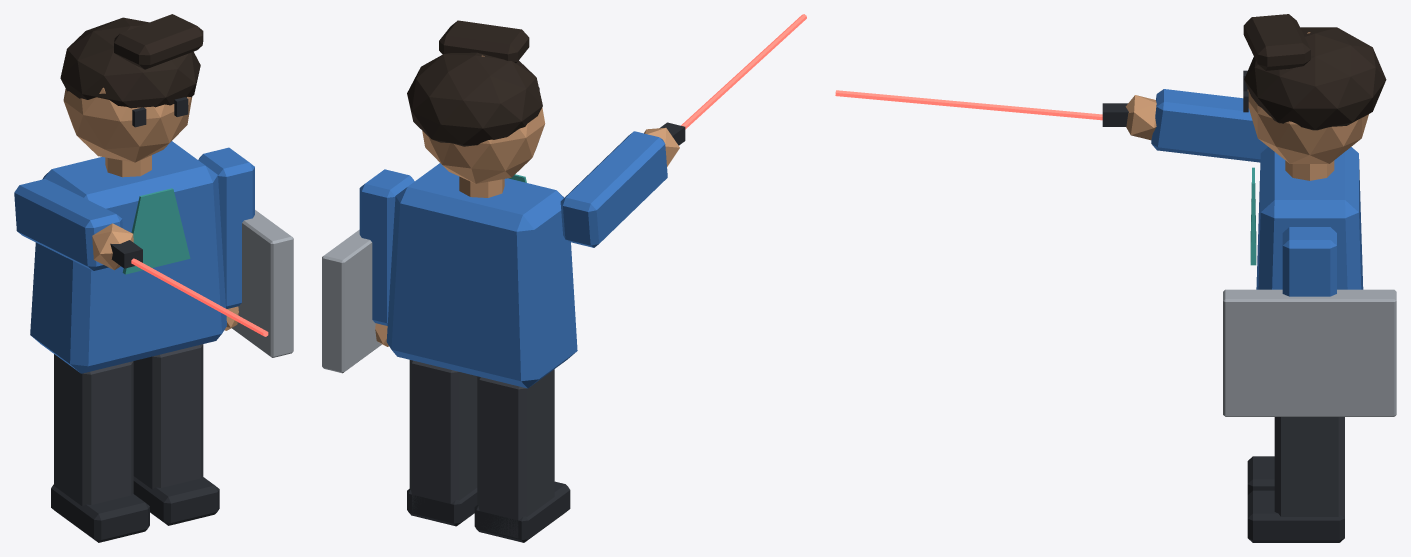
The model's file is presenter.glb.
The picture shows the model from 3 angles, left to right: view 1: azimuth 30°, elevation 25°; view 2: azimuth 150°, elevation 25°; view 3: azimuth 270°, elevation 25°; orthographic projection. The views are drawn at different scales.
Parts seen in each view (by area): view 1: Body, LegR, LegL, ArmL, ArmR, Props; view 2: Body, LegR, ArmL, LegL, ArmR; view 3: Body, ArmL, LegL, ArmR, LegR.
Boxes of the visible parts, x1=… form: Body: x1=30, y1=14, x2=226, y2=373; LegR: x1=51, y1=354, x2=149, y2=542; LegL: x1=133, y1=344, x2=219, y2=525; ArmL: x1=198, y1=147, x2=293, y2=357; ArmR: x1=14, y1=179, x2=268, y2=336; Props: x1=122, y1=188, x2=190, y2=274; Body: x1=386, y1=20, x2=577, y2=388; LegR: x1=474, y1=369, x2=570, y2=542; ArmL: x1=322, y1=169, x2=414, y2=373; LegL: x1=407, y1=360, x2=477, y2=526; ArmR: x1=560, y1=14, x2=806, y2=247; Body: x1=1243, y1=14, x2=1386, y2=289; ArmL: x1=1223, y1=227, x2=1396, y2=416; LegL: x1=1247, y1=417, x2=1344, y2=542; ArmR: x1=835, y1=89, x2=1267, y2=162; LegR: x1=1247, y1=456, x2=1274, y2=494.
Size of the model in its own units: 0.7471 by 1.45 by 1.5.
